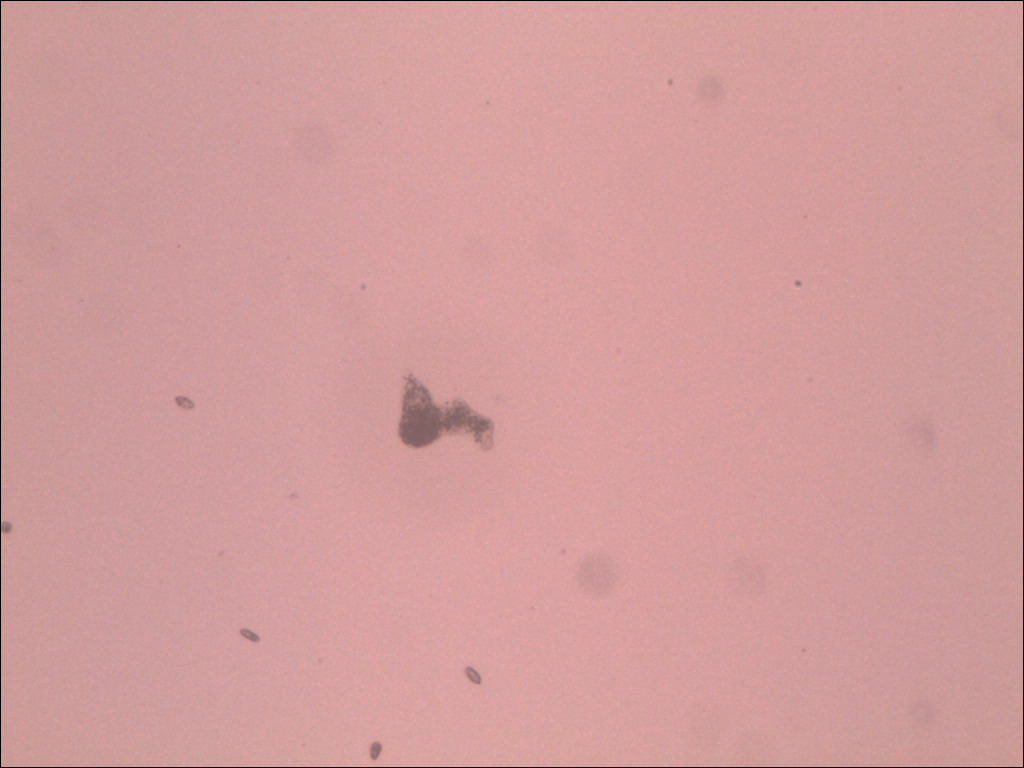amoeba: (381, 360, 513, 466)
